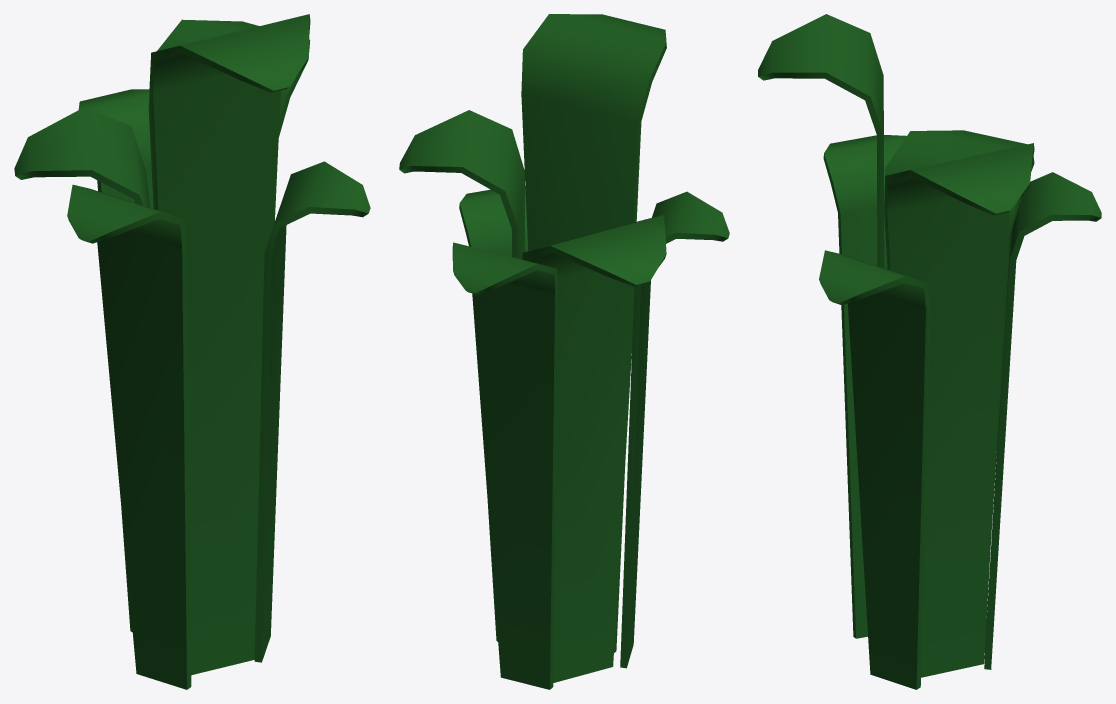
Rendered from grass-01.glb.
The picture shows the model from 3 angles, left to right: view 1: azimuth 30°, elevation 25°; view 2: azimuth 150°, elevation 25°; view 3: azimuth 270°, elevation 25°; orthographic projection. The views are drawn at different scales.
Parts seen in each view (by area): view 1: grass 01; view 2: grass 01; view 3: grass 01.
Part boxes in pixels (bbox=[...]): grass 01: bbox=[14, 14, 370, 689]; grass 01: bbox=[399, 14, 729, 689]; grass 01: bbox=[758, 14, 1101, 689].
Size of the model in its own units: 0.2857 by 0.6235 by 0.3167.
1 material, 1 textured.
